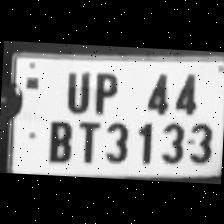1: (130, 117, 157, 166)
3: (183, 117, 214, 166), (99, 116, 130, 164), (154, 116, 185, 164)
4: (139, 66, 171, 116), (168, 66, 200, 116)
B: (43, 113, 74, 163)
P: (87, 65, 121, 114)
T: (72, 117, 100, 164)
U: (58, 64, 92, 112)
